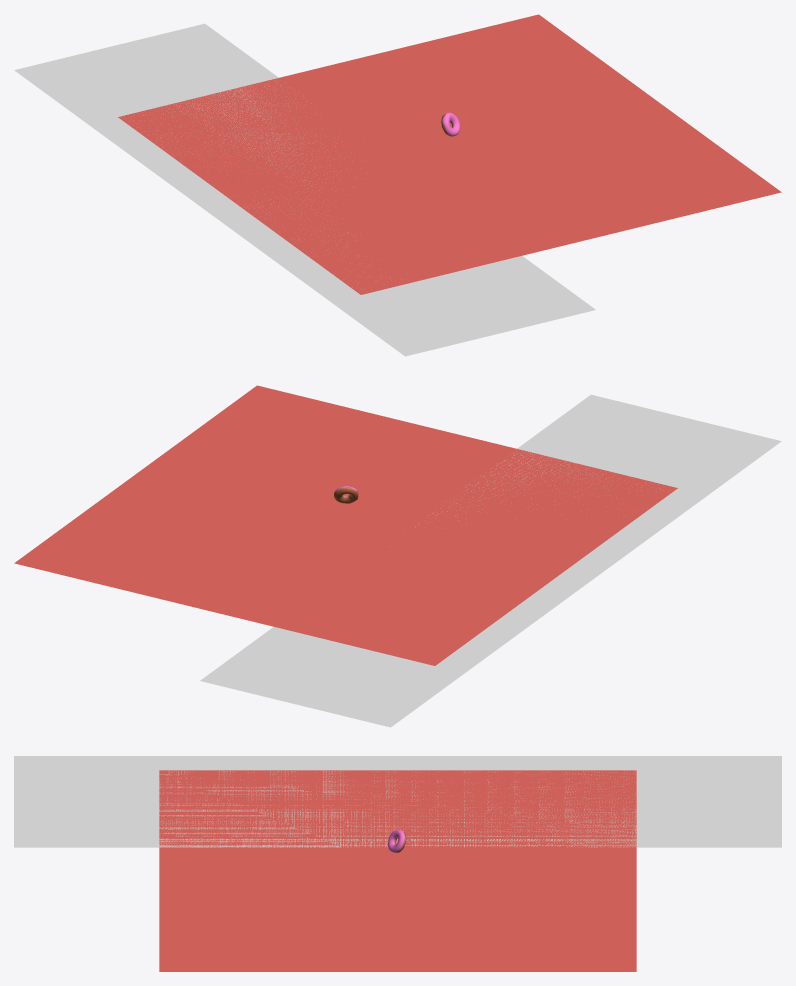
File: donut_render.glb
3 renders of one model, top to bottom at view 1: azimuth 30°, elevation 25°; view 2: azimuth 150°, elevation 25°; view 3: azimuth 270°, elevation 25°, orthographic.
Visible parts, largest first — view 1: Floor, Floating Sprinkles; view 2: Floor, Floating Sprinkles; view 3: Floor, Floating Sprinkles.
Boxes of the visible parts, x1,y1,x2,y2 form: Floor: (118,14,781,294); Floating Sprinkles: (14,23,595,356); Floor: (14,385,677,665); Floating Sprinkles: (200,394,781,727); Floor: (159,770,636,971); Floating Sprinkles: (14,756,781,847).
Bounding box in the file's own units: 2.14 × 0.2011 × 3.22.
Materials: 4 (1 with a texture image).
